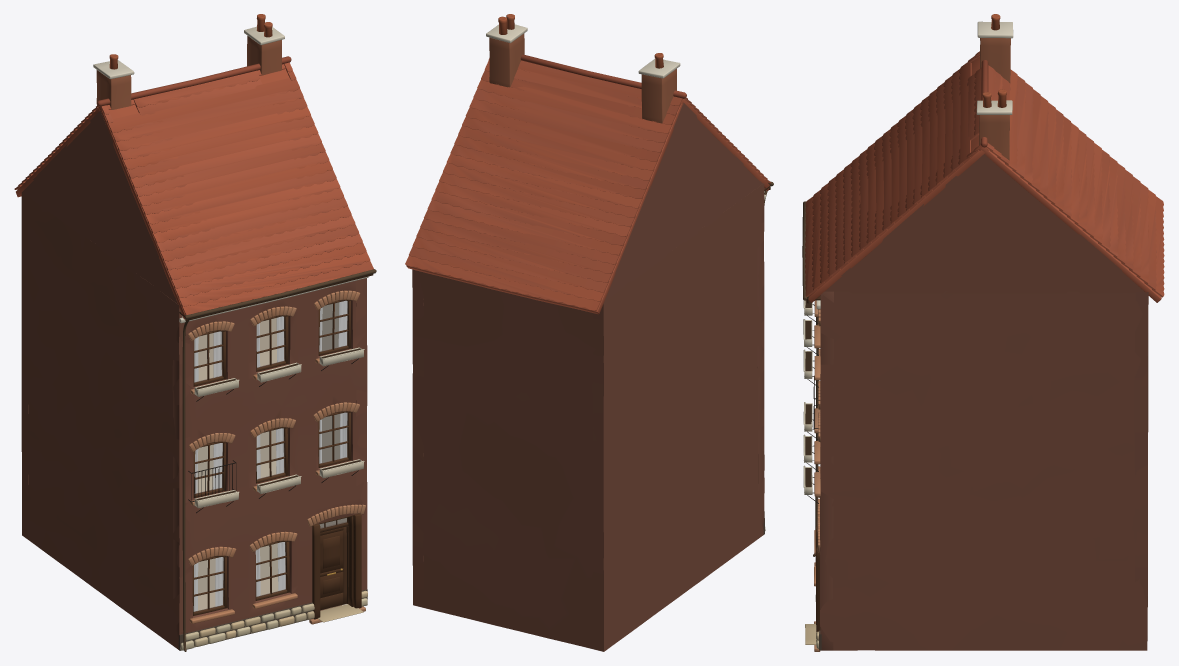
Rendered from LibraryRow_Neighbor2.glb.
The picture shows the model from 3 angles, left to right: view 1: azimuth 30°, elevation 25°; view 2: azimuth 150°, elevation 25°; view 3: azimuth 270°, elevation 25°; orthographic projection. The views are drawn at different scales.
Parts seen in each view (by area): view 1: Sammel Ziegel, Sammel Stein, Sammel Holz, Glas, Sammel Putz innen, Vorhang Leinen, Sammel Metall, Sammel Putz, Sammel Lack; view 2: Sammel Ziegel, Sammel Stein, Sammel Putz; view 3: Sammel Ziegel, Sammel Stein, Sammel Putz, Sammel Lack, Sammel Metall.
Boxes of the visible parts, x1,y1,x2,y2 form: Sammel Ziegel: [21, 36, 367, 649]; Sammel Stein: [14, 56, 373, 650]; Sammel Holz: [179, 274, 373, 619]; Glas: [194, 301, 347, 611]; Sammel Putz innen: [197, 302, 346, 610]; Vorhang Leinen: [193, 301, 347, 611]; Sammel Metall: [182, 269, 376, 651]; Sammel Putz: [93, 14, 368, 650]; Sammel Lack: [194, 347, 364, 508]; Sammel Ziegel: [412, 33, 764, 651]; Sammel Stein: [405, 54, 771, 530]; Sammel Putz: [486, 14, 765, 534]; Sammel Ziegel: [814, 38, 1148, 651]; Sammel Stein: [805, 51, 1164, 648]; Sammel Putz: [805, 14, 1013, 650]; Sammel Lack: [803, 300, 812, 494]; Sammel Metall: [802, 201, 818, 556].
Size of the model in its own units: 5.64 by 14.93 by 8.85.
